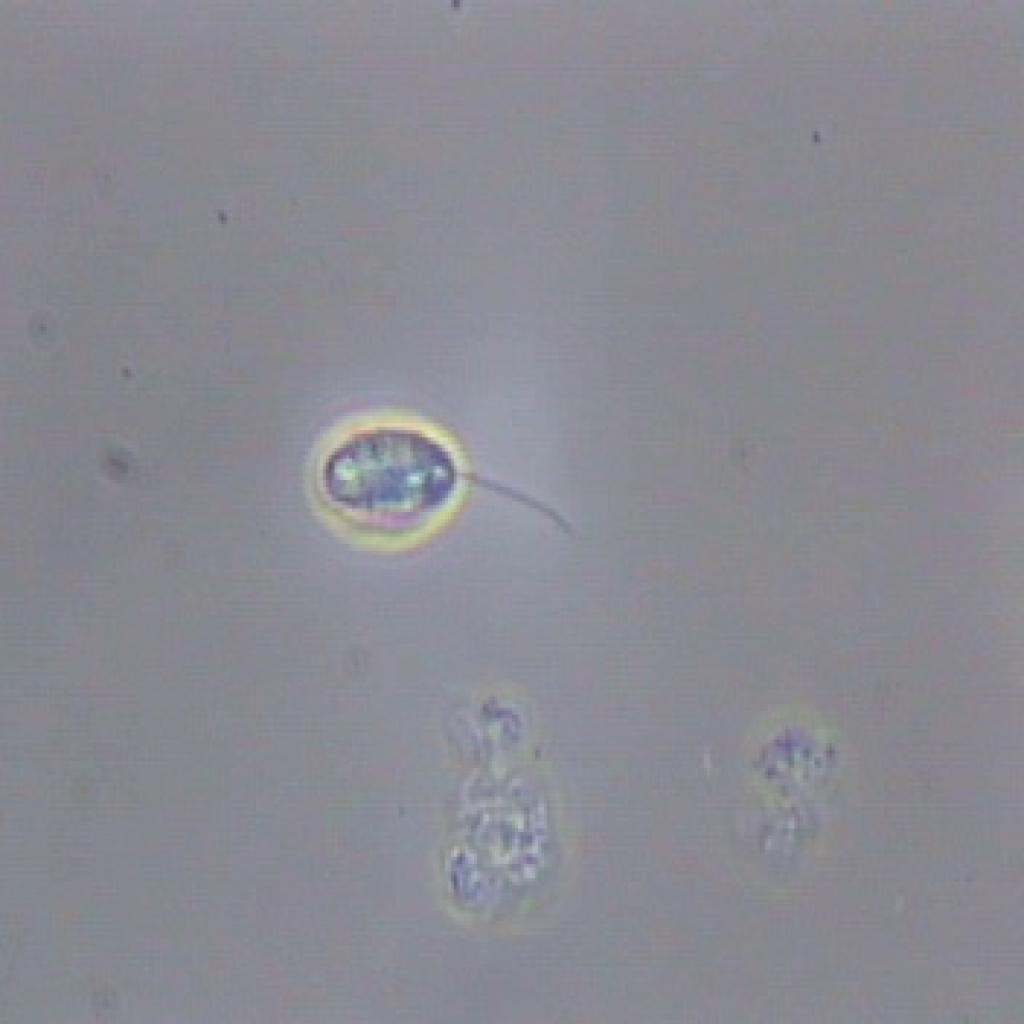Flagellates: (275, 396, 574, 585)
